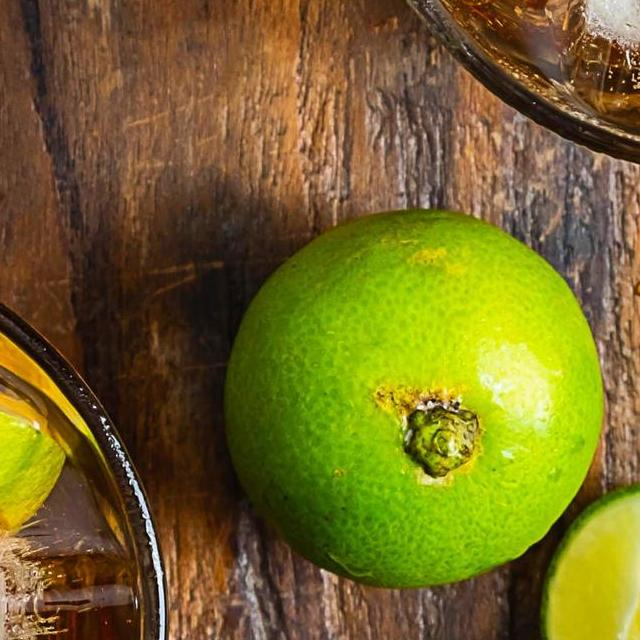lime: (202, 176, 627, 601)
